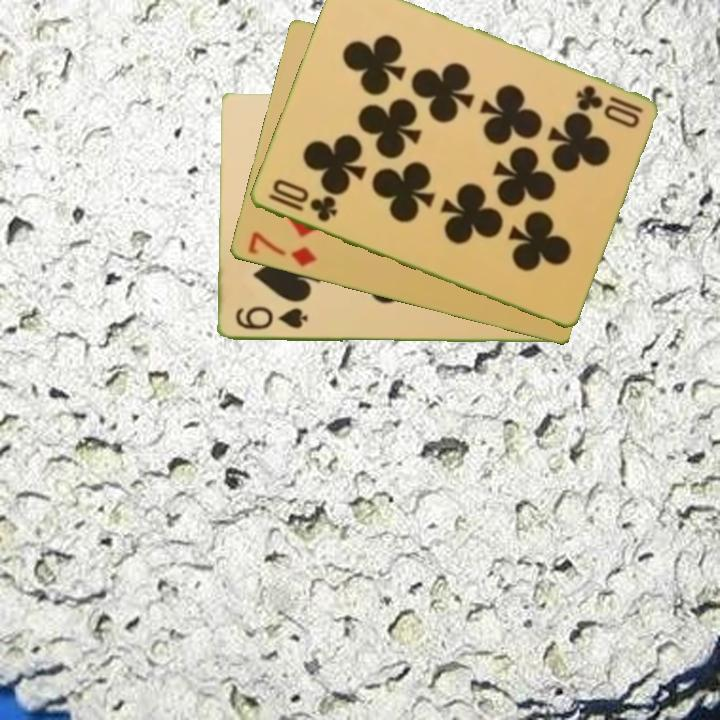10c: (263, 175, 340, 225), (571, 81, 646, 116)
6s: (231, 303, 310, 333)
7d: (244, 228, 319, 270)
